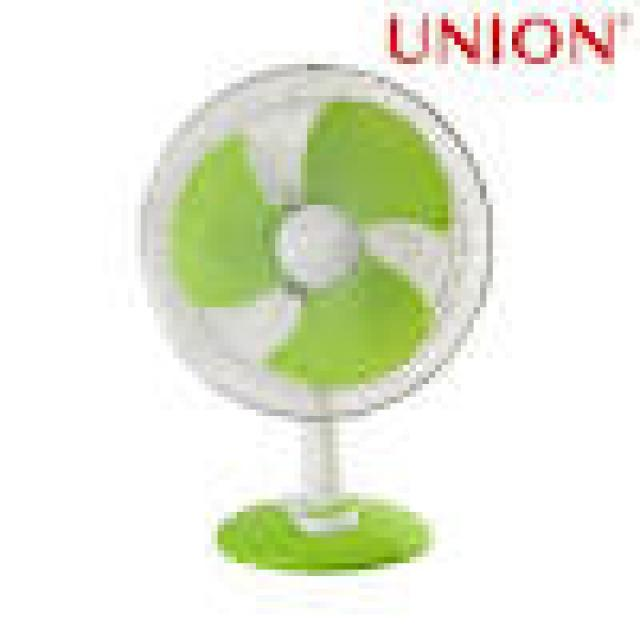fan: (75, 55, 562, 577)
